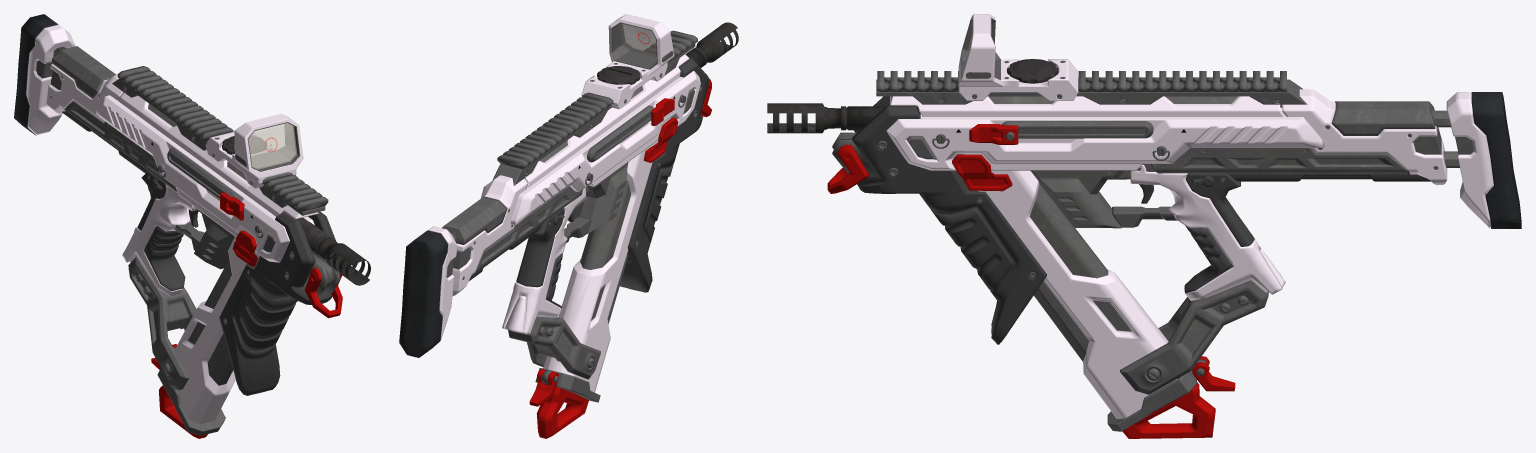
The model's file is wpn_project_smg_fr17.glb.
The picture shows the model from 3 angles, left to right: view 1: azimuth 30°, elevation 25°; view 2: azimuth 150°, elevation 25°; view 3: azimuth 270°, elevation 25°; orthographic projection. The views are drawn at different scales.
Visible parts, largest first — view 1: Plane.003, Plane, Plane.005, Plane.020, Plane.001, Plane.012, Plane.013, Plane.021, Plane.010, Cylinder.010, Plane.022, Plane.034 (+17 smaller); view 2: Plane.005, Plane, Plane.001, Plane.024, Plane.003, Plane.020, Plane.012, Plane.021, Plane.010, Plane.027, Plane.008, Plane.033 (+17 smaller); view 3: Plane, Plane.003, Plane.005, Plane.001, Plane.012, Plane.025, Plane.020, Plane.010, Plane.027, Plane.021, Plane.024, Plane.008 (+17 smaller).
Boxes of the visible parts, x1=… form: Plane.003: x1=219, y1=211, x2=335, y2=395; Plane: x1=96, y1=95, x2=314, y2=262; Plane.005: x1=175, y1=236, x2=259, y2=423; Plane.020: x1=117, y1=66, x2=328, y2=211; Plane.001: x1=46, y1=64, x2=319, y2=219; Plane.012: x1=128, y1=257, x2=196, y2=390; Plane.013: x1=26, y1=24, x2=75, y2=135; Plane.021: x1=205, y1=113, x2=303, y2=188; Plane.010: x1=122, y1=184, x2=196, y2=296; Cylinder.010: x1=298, y1=217, x2=370, y2=285; Plane.022: x1=248, y1=123, x2=297, y2=169; Plane.034: x1=143, y1=225, x2=185, y2=291; Plane.005: x1=543, y1=140, x2=658, y2=392; Plane: x1=480, y1=71, x2=700, y2=225; Plane.001: x1=452, y1=54, x2=689, y2=296; Plane.024: x1=399, y1=230, x2=447, y2=357; Plane.003: x1=620, y1=58, x2=709, y2=292; Plane.020: x1=497, y1=30, x2=697, y2=169; Plane.012: x1=508, y1=316, x2=600, y2=379; Plane.021: x1=581, y1=14, x2=674, y2=109; Plane.010: x1=502, y1=187, x2=586, y2=334; Plane.027: x1=580, y1=180, x2=631, y2=323; Plane.008: x1=573, y1=162, x2=628, y2=233; Plane.033: x1=516, y1=208, x2=564, y2=286; Plane: x1=886, y1=105, x2=1324, y2=170; Plane.003: x1=852, y1=96, x2=1046, y2=344; Plane.005: x1=977, y1=170, x2=1176, y2=418; Plane.001: x1=890, y1=89, x2=1447, y2=185; Plane.012: x1=1120, y1=280, x2=1268, y2=394; Plane.025: x1=1150, y1=148, x2=1408, y2=174; Plane.020: x1=877, y1=71, x2=1286, y2=91; Plane.010: x1=1130, y1=165, x2=1282, y2=300; Plane.027: x1=956, y1=170, x2=1131, y2=361; Plane.021: x1=958, y1=14, x2=1078, y2=100; Plane.024: x1=1471, y1=92, x2=1521, y2=228; Plane.008: x1=1030, y1=163, x2=1154, y2=228.
Size of the model in its own units: 0.0565 by 0.2958 by 0.4895.
11 materials, 4 textured.
